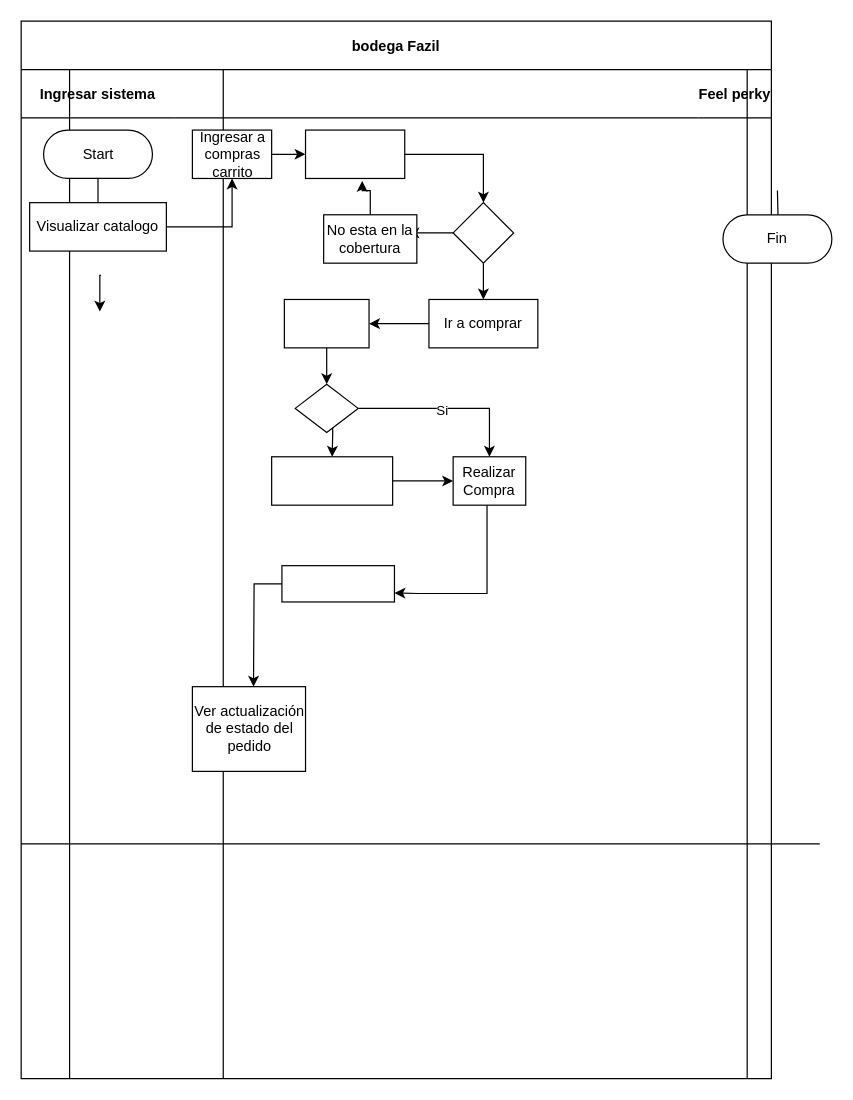
This 853x1100 diagram has some shape labels left out. Each missing label, with the box of its shape:
Ingresar Dirección de entrega: (304, 129, 405, 178)
Ingreso / Registro de clientes: (270, 456, 393, 505)
Logearse: (283, 298, 369, 348)
orden de compras: (281, 564, 394, 602)
